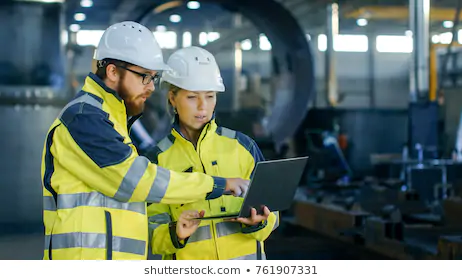Person_wearing_helmet: (72, 20, 170, 84), (165, 45, 222, 106)
